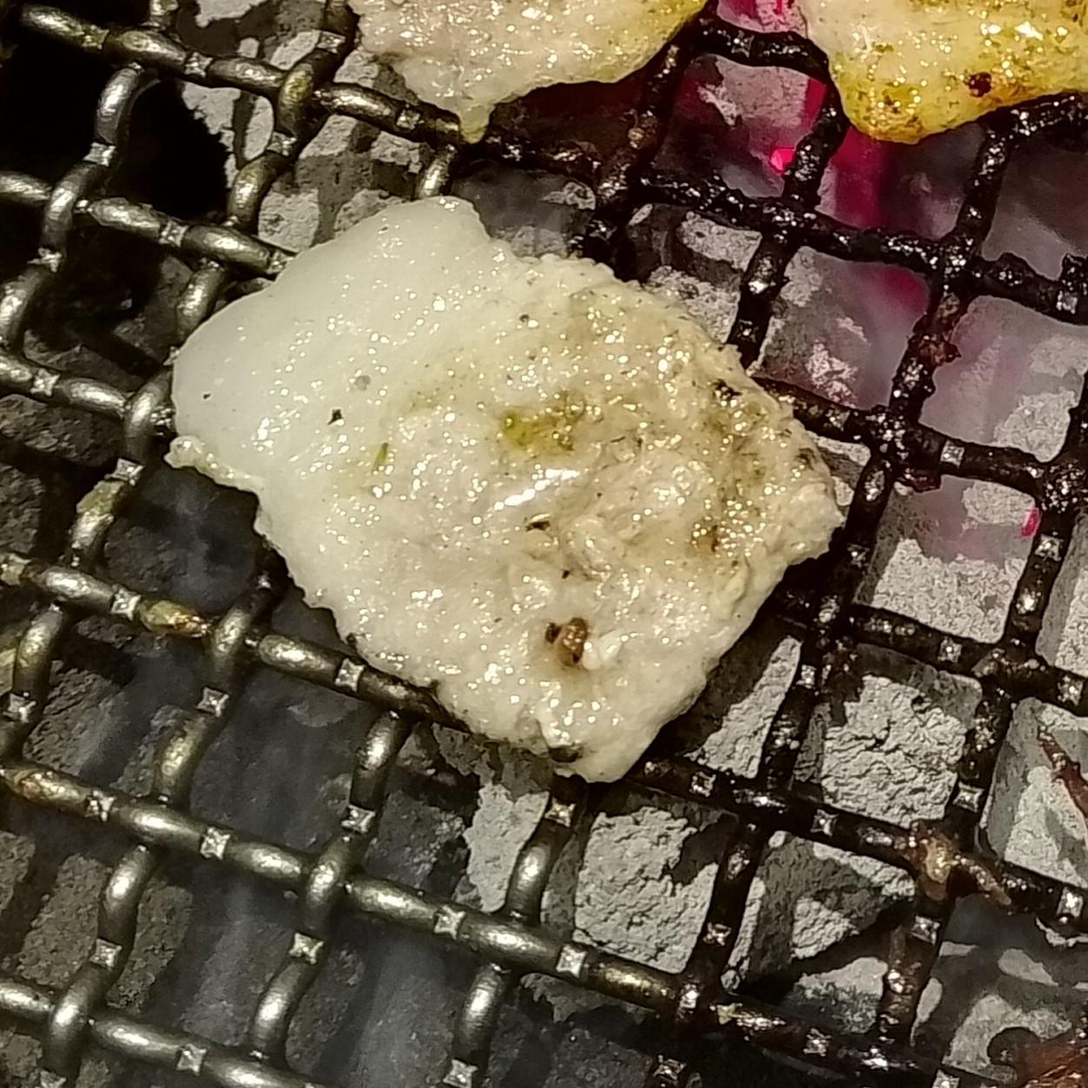Undercooked: (166, 194, 864, 790)
